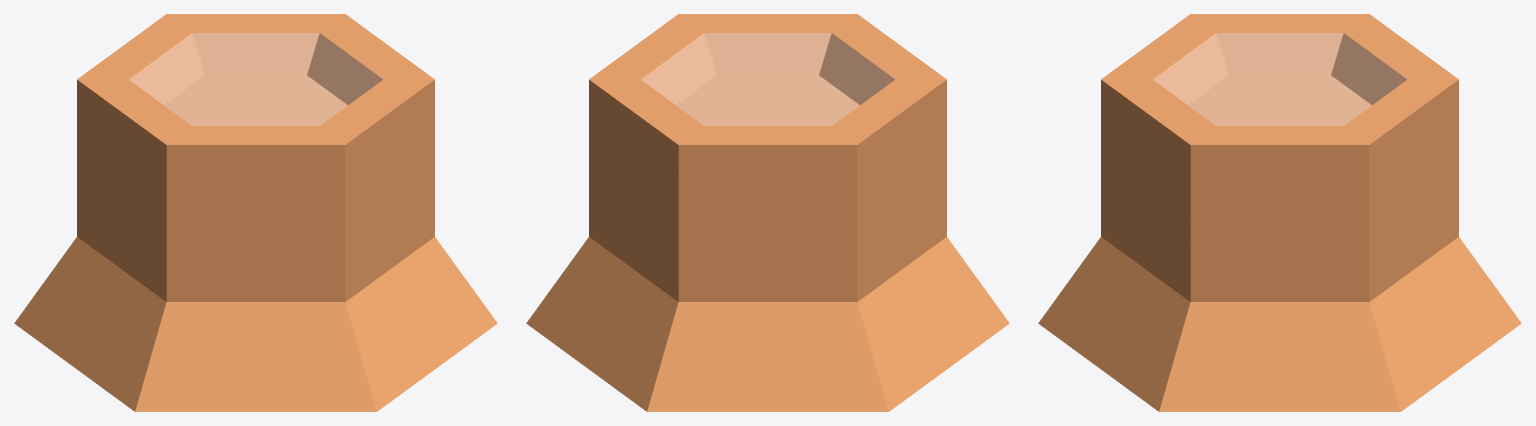
File: treeStump_round.fbx
3 views of the same model, side by side, from view 1: azimuth 30°, elevation 25°; view 2: azimuth 150°, elevation 25°; view 3: azimuth 270°, elevation 25° (orthographic).
Visible parts, largest first — view 1: treeStump_round; view 2: treeStump_round; view 3: treeStump_round.
Part boxes in pixels (x1,y1,x2,y2): treeStump_round: [14, 14, 497, 411]; treeStump_round: [526, 14, 1009, 411]; treeStump_round: [1038, 14, 1521, 411].
Bounding box in the file's own units: 3.21 × 2.07 × 3.71.
